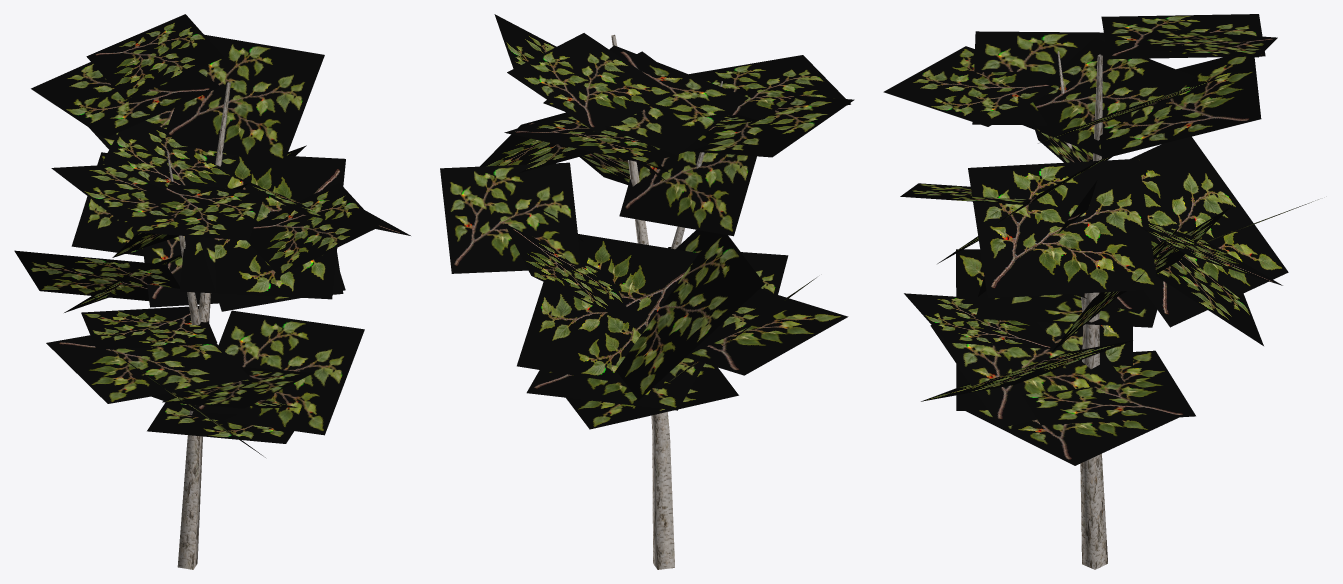
Rendered from woodland_birch_far.gltf.
3 renders of one model, left to right at view 1: azimuth 30°, elevation 25°; view 2: azimuth 150°, elevation 25°; view 3: azimuth 270°, elevation 25°, orthographic. The views are drawn at different scales.
Visible parts, largest first — view 1: WoodlandBirch; view 2: WoodlandBirch; view 3: WoodlandBirch.
Part boxes in pixels (bbox=[...]): WoodlandBirch: bbox=[14, 14, 410, 569]; WoodlandBirch: bbox=[440, 14, 854, 569]; WoodlandBirch: bbox=[883, 14, 1318, 569].
Bounding box in the file's own units: 5.51 × 8.2 × 6.07.
Materials: 2 (2 with a texture image).
